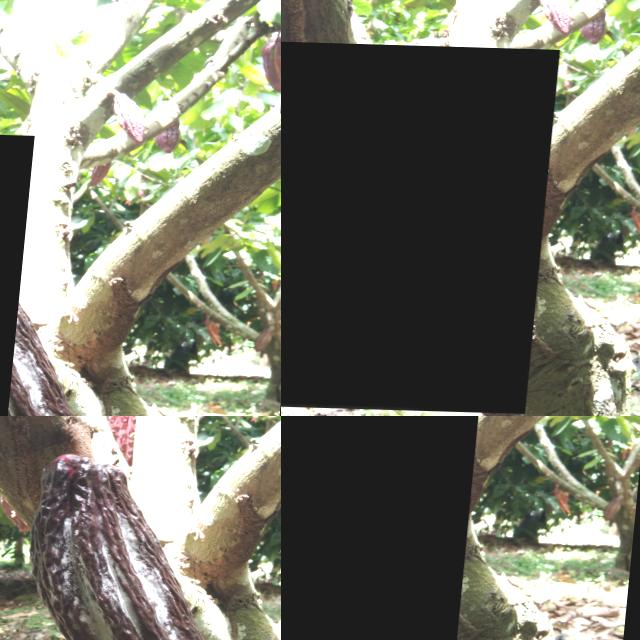Monilia: (281, 416, 484, 640)
Sana: (281, 39, 563, 410)
